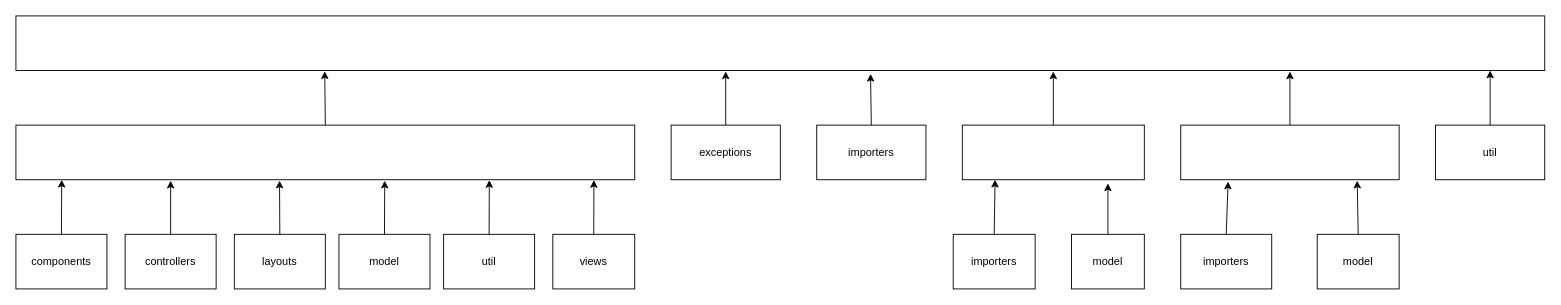
The diagram is 1561 pixels wide and 305 high, and some of its shapes have lost their labels. Each missing label, with the centre of its shape:
"communications" goes at (1052,152).
"gui" goes at (325,152).
"nz.ac.vuw.engr300" goes at (780,43).
"weather" goes at (1289,152).
